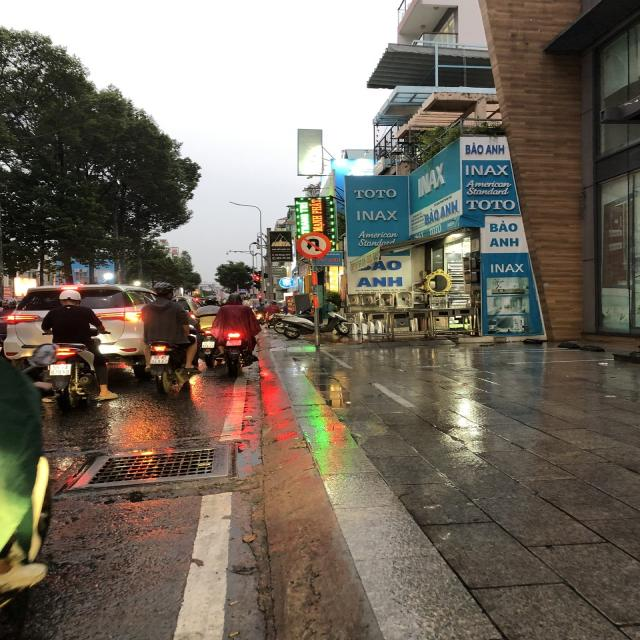Bien bao cam quay dau xe: (293, 230, 332, 261)
